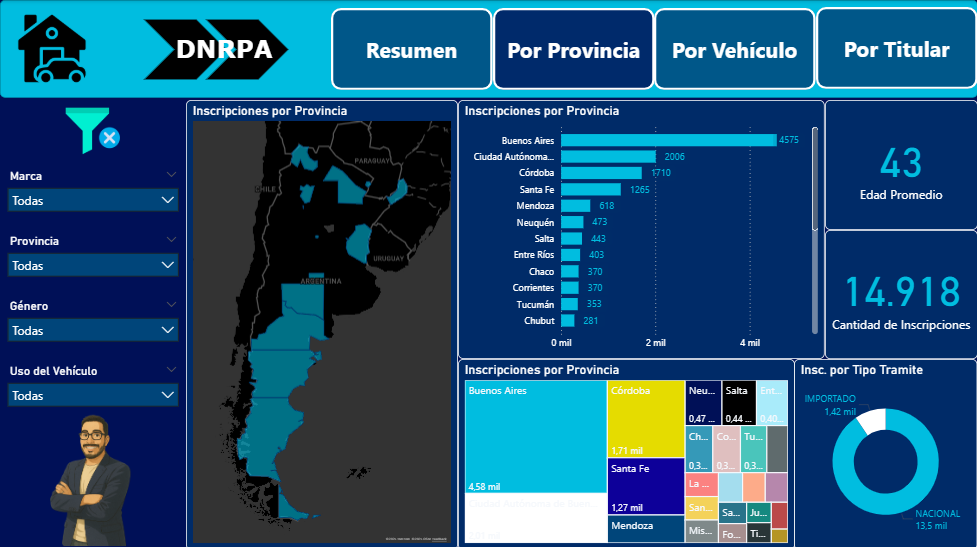

The page's visual inventory and layout, read from the dashboard file:
{"tool":"powerbi","page":{"name":"Provincia","canvas":[1280,720],"ordinal":2},"visuals":[{"type":"shape","box":[0,0,1279.8,127.8],"z":0},{"type":"card","title":"Edad Promedio","fields":{"Values":["Tramites.Promedio_edad"]},"box":[1080,130.8,199.8,170.4],"z":1000},{"type":"card","fields":{"Values":["modelo.Total_Modelo"]},"box":[1080,301.2,199.8,169],"z":2000},{"type":"azureMap","title":"Inscripciones por Provincia","fields":{"Category":["provincia.Pro_pais"]},"box":[243.9,130.8,355.6,589.2],"z":3000},{"type":"barChart","fields":{"Category":["provincia.nombre_provincia"],"Y":["CountNonNull(Tramites.ID_tramite)"]},"box":[599.5,130.8,480.5,339.4],"z":4000},{"type":"treemap","title":"Inscripciones por Provincia","fields":{"Group":["provincia.nombre_provincia"],"Values":["CountNonNull(Tramites.ID_tramite)"]},"box":[599.5,470.2,440.8,249.8],"z":5000},{"type":"donutChart","title":"Insc. por Tipo Tramite","fields":{"Y":["CountNonNull(Tramites.ID_tramite)"],"Category":["tipo_tramite.Simplificado"]},"box":[1040,470,240,250],"z":6000},{"type":"actionButton","box":[645.1,10.3,211.6,107.3],"z":7000},{"type":"actionButton","box":[856.7,10.3,211.6,107.3],"z":8000},{"type":"actionButton","box":[1068.2,8.8,211.6,107.3],"z":9000},{"type":"slicer","fields":{"Values":["provincia.nombre_provincia"]},"box":[0,301.2,243.9,85],"z":10000},{"type":"slicer","fields":{"Values":["marca.descripcion"]},"box":[0,216,243.9,85.2],"z":11000},{"type":"slicer","fields":{"Values":["automotor_uso.descripcion"]},"box":[0,471.7,243.9,85],"z":12000},{"type":"slicer","fields":{"Values":["genero.descripcion"]},"box":[0,386.4,243.9,85],"z":13000},{"type":"image","box":[0,130.8,243.9,80.8],"z":14000},{"type":"group","id":"g1","title":"Grupo 1","box":[186.6,25,191,79.3],"z":15000},{"type":"actionButton","box":[433.5,10.3,211.6,107.3],"z":16000},{"type":"shape","box":[268.3,25,110,80],"z":16750,"group":"g3"},{"type":"image","box":[0,10.3,136.7,105.8],"z":17000},{"type":"shape","box":[186.6,25,110,80],"z":17375,"group":"g3"},{"type":"textbox","box":[224.9,40,153.3,65],"z":18000,"group":"g3"},{"type":"image","box":[0,529,243.9,191],"z":18000},{"type":"group","id":"g2","title":"Grupo 2","box":[186.6,25,191,79.3],"z":18002,"group":"g1"},{"type":"group","id":"g3","title":"Grupo 3","box":[186.6,25,191,79.3],"z":18003,"group":"g2"}]}

Visuals, with their boxes in screenshot pixels (x1, y1, x2, y2), scaled from the page's 1280x720 canvas onto the 977x547 screenshot:
shape: bbox(0, 0, 976, 97)
"Edad Promedio" card: bbox(824, 99, 976, 229)
card - modelo.Total_Modelo: bbox(824, 229, 976, 357)
"Inscripciones por Provincia" azureMap: bbox(186, 99, 458, 546)
barChart - provincia.nombre_provincia x CountNonNull(Tramites.ID_tramite): bbox(458, 99, 824, 357)
"Inscripciones por Provincia" treemap: bbox(458, 357, 794, 546)
"Insc. por Tipo Tramite" donutChart: bbox(794, 357, 976, 546)
actionButton: bbox(492, 8, 654, 89)
actionButton: bbox(654, 8, 815, 89)
actionButton: bbox(815, 7, 976, 88)
slicer - provincia.nombre_provincia: bbox(0, 229, 186, 293)
slicer - marca.descripcion: bbox(0, 164, 186, 229)
slicer - automotor_uso.descripcion: bbox(0, 358, 186, 423)
slicer - genero.descripcion: bbox(0, 294, 186, 358)
image: bbox(0, 99, 186, 161)
"Grupo 1" group: bbox(142, 19, 288, 79)
actionButton: bbox(331, 8, 492, 89)
shape: bbox(205, 19, 289, 80)
image: bbox(0, 8, 104, 88)
shape: bbox(142, 19, 226, 80)
textbox: bbox(172, 30, 289, 80)
image: bbox(0, 402, 186, 546)
"Grupo 2" group: bbox(142, 19, 288, 79)
"Grupo 3" group: bbox(142, 19, 288, 79)
